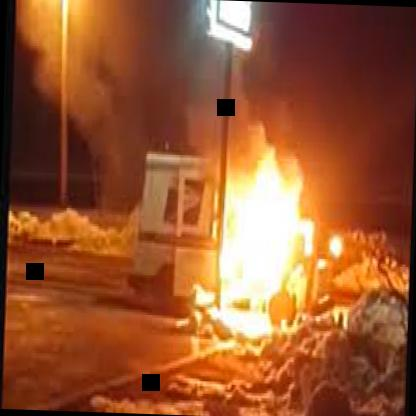fire: (198, 95, 342, 372)
